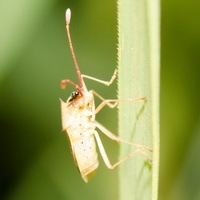insect: (60, 8, 152, 181), (95, 127, 134, 164)
